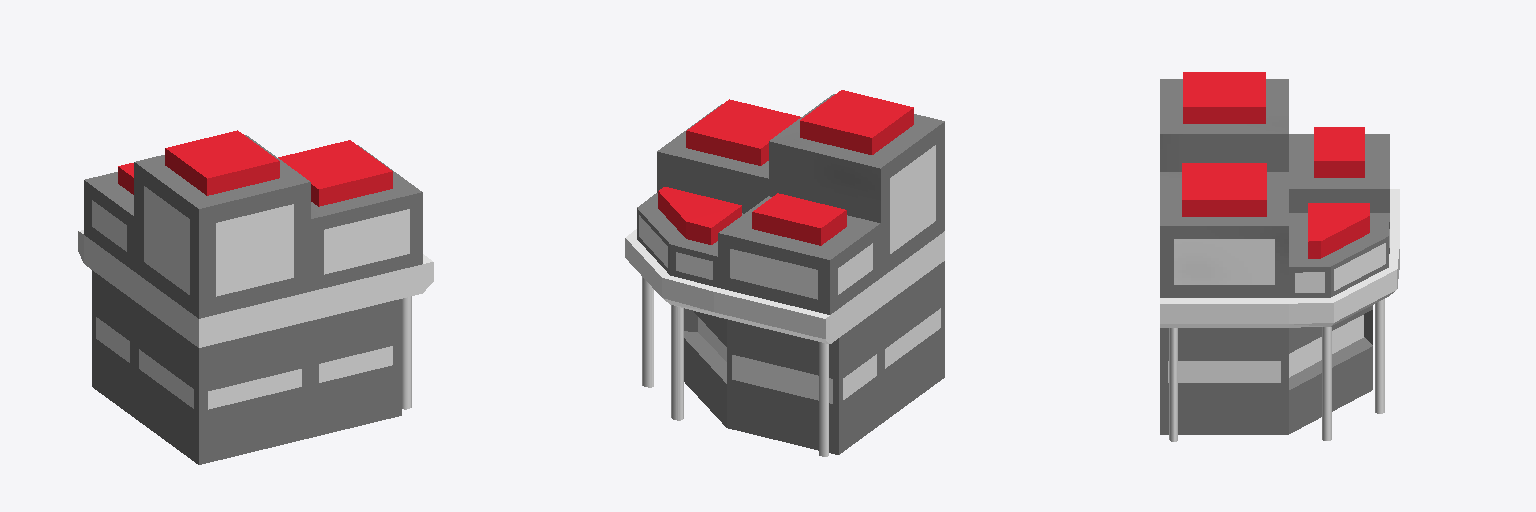
3 renders of one model, left to right at view 1: azimuth 30°, elevation 25°; view 2: azimuth 150°, elevation 25°; view 3: azimuth 270°, elevation 25°, orthographic.
Visible parts, largest first — view 1: Cube; view 2: Cube; view 3: Cube.
Boxes of the visible parts, x1=… form: Cube: x1=78, y1=130, x2=433, y2=464; Cube: x1=625, y1=90, x2=944, y2=456; Cube: x1=1160, y1=72, x2=1399, y2=441.
Size of the model in its own units: 2.1 by 2.34 by 1.86.
Materials: 1 (1 with a texture image).